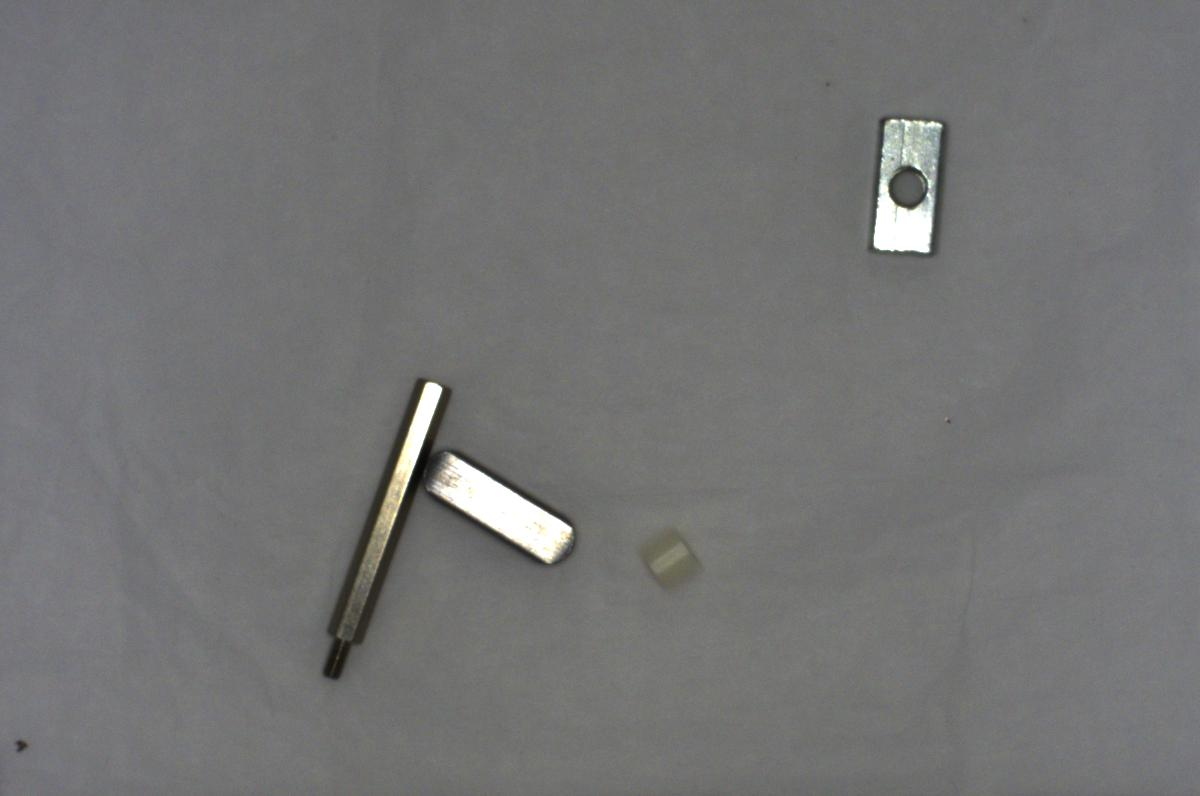Hexagonal steel column: (317, 370, 446, 676)
Keybar: (420, 448, 580, 575)
Plastic cushion pillar: (638, 520, 708, 589)
Rectangular nut: (852, 112, 953, 265)
